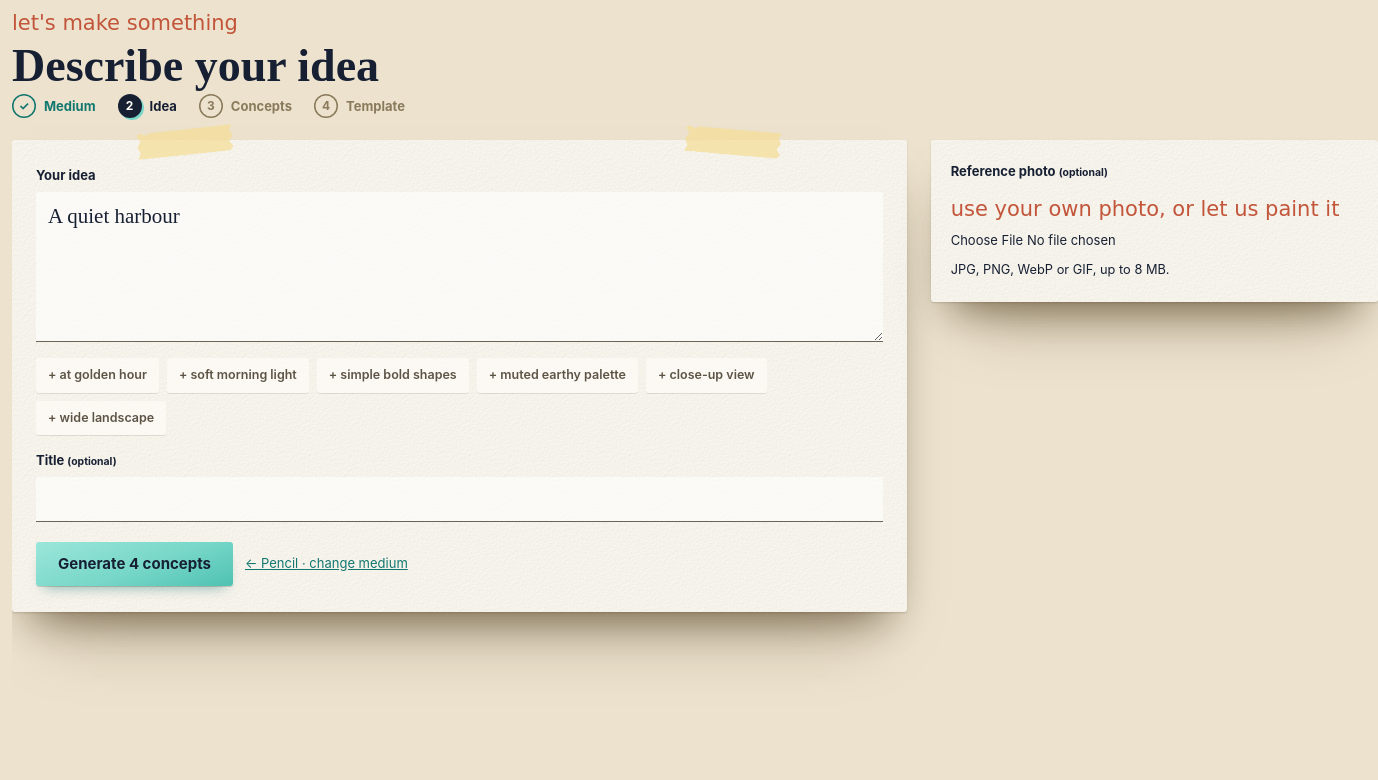
it: CreateFlow › shows the server error, e.g. the hourly limit
The width and height of the screenshot is (1378, 780).
Click the button "Generate 4 concepts" at x=134, y=564, box [36,542,233,586]
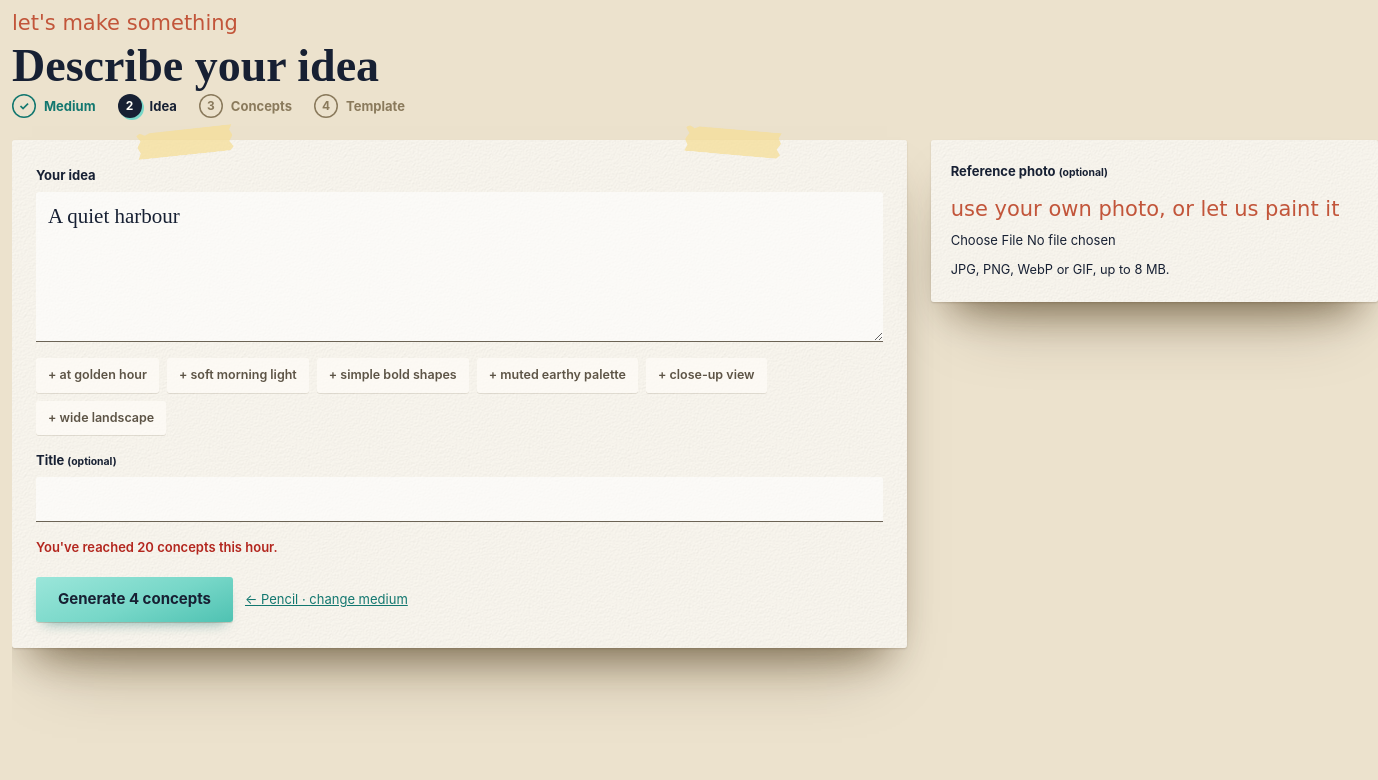
Expected: the message shows "this hour", [36,539,278,555]
